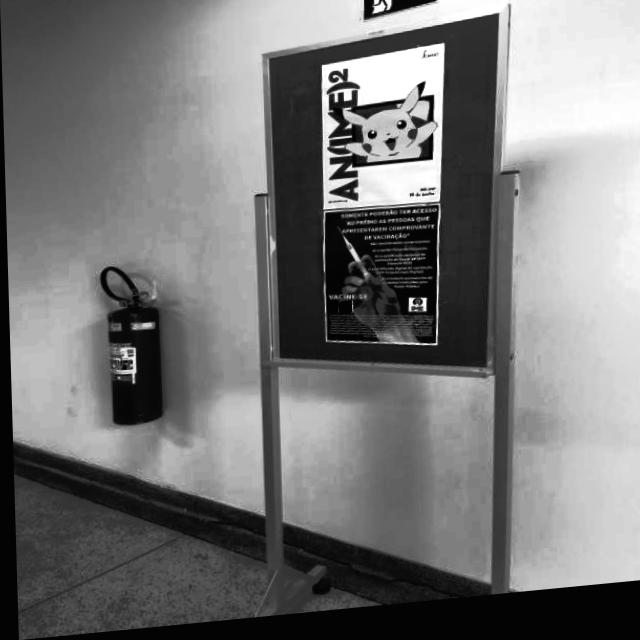qr_code: (338, 307, 349, 321)
